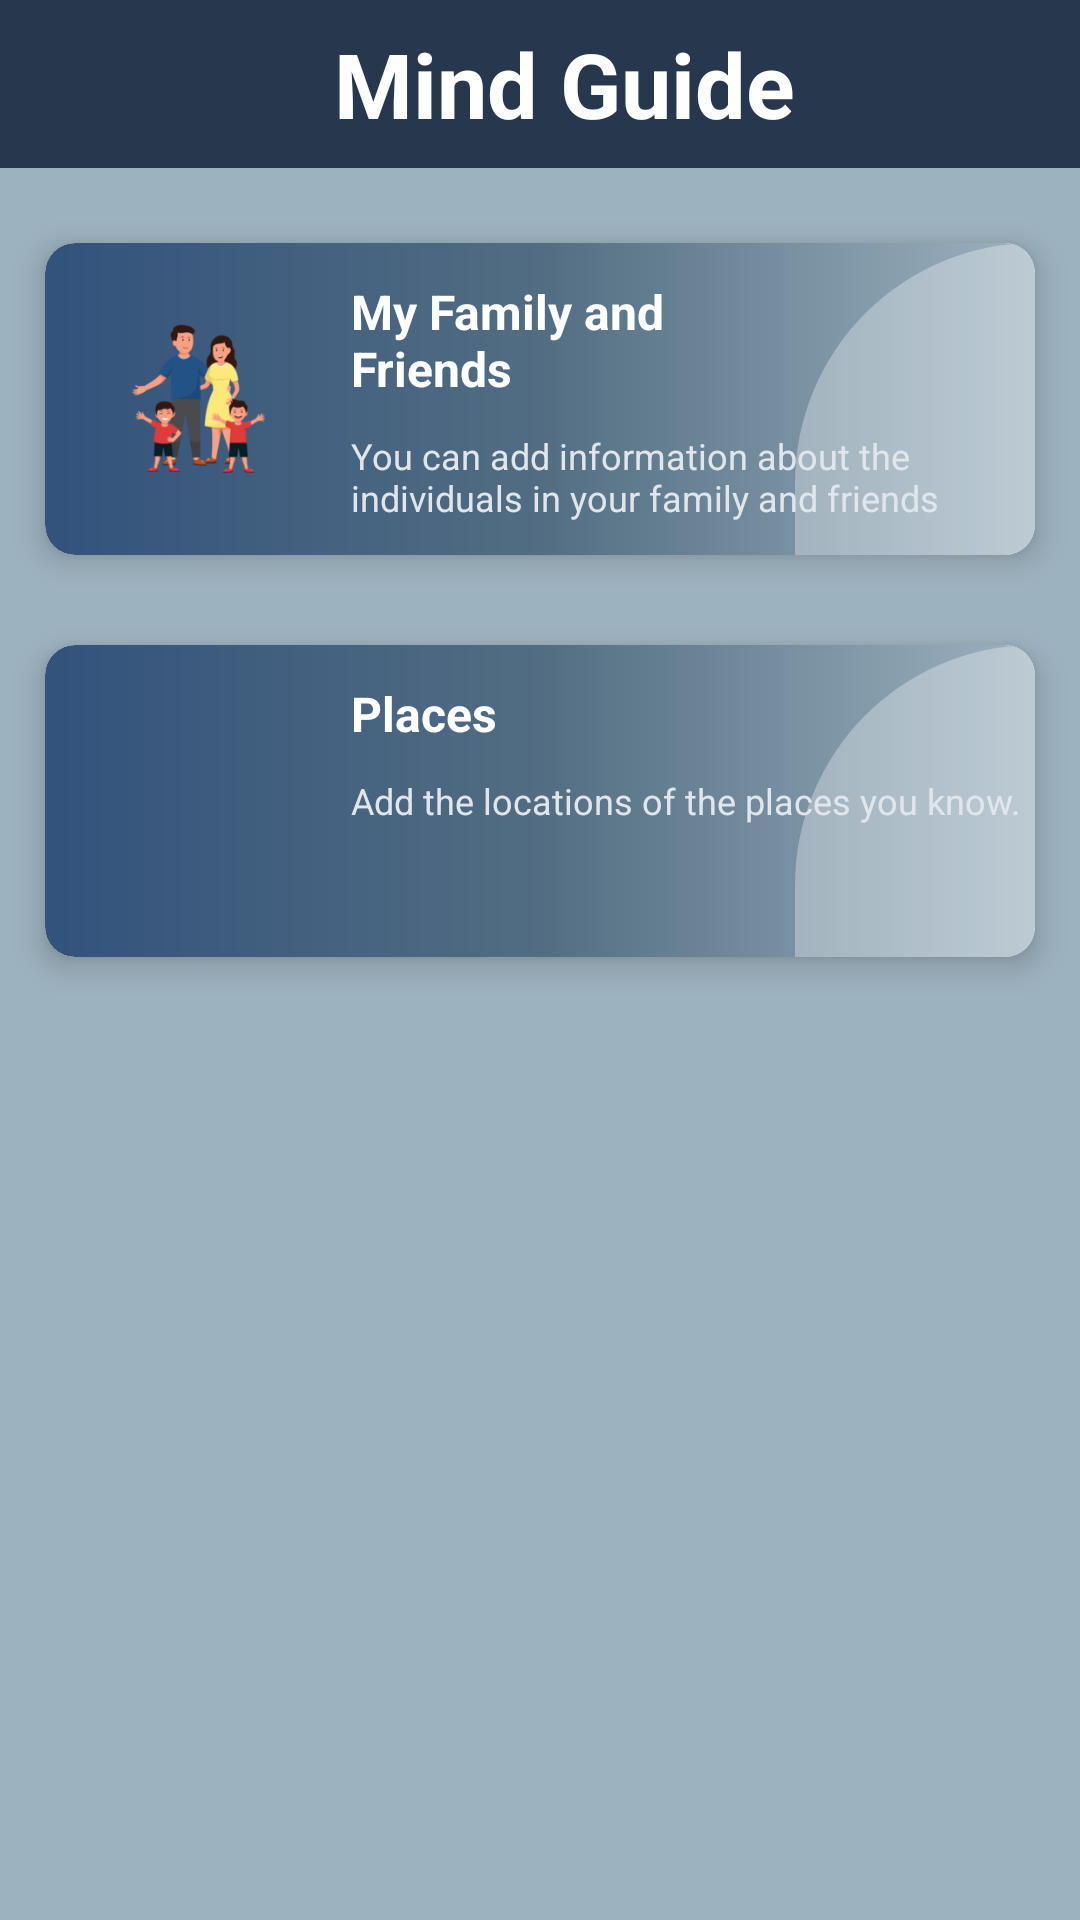

Named icons in this screenshot (1080×1920) and their bounding boxes, (x1, y1, x2, y2):
person: (132, 279, 321, 519)
